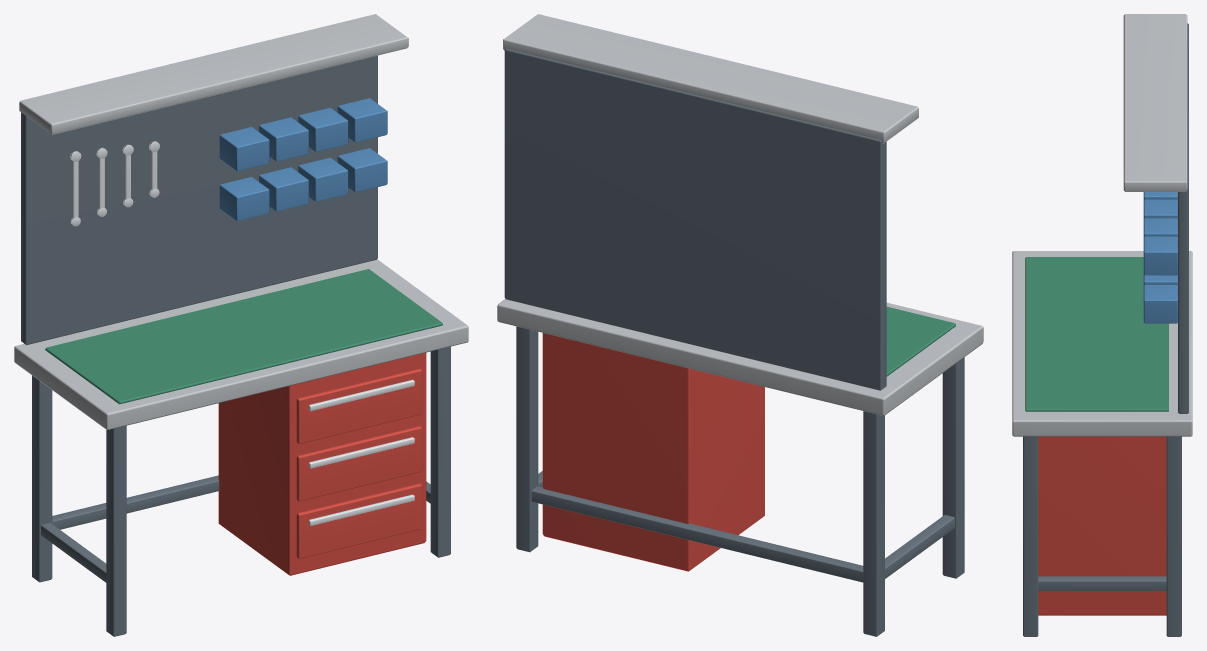
File: vcb-workbench.glb
The picture shows the model from 3 angles, left to right: view 1: azimuth 30°, elevation 25°; view 2: azimuth 150°, elevation 25°; view 3: azimuth 270°, elevation 25°; orthographic projection. The views are drawn at different scales.
Visible parts, largest first — view 1: VcbWorkbenchAssembly; view 2: VcbWorkbenchAssembly; view 3: VcbWorkbenchAssembly.
Part boxes in pixels (x1=…): VcbWorkbenchAssembly: x1=14, y1=14, x2=468, y2=636; VcbWorkbenchAssembly: x1=497, y1=14, x2=983, y2=636; VcbWorkbenchAssembly: x1=1012, y1=14, x2=1192, y2=636.
Bounding box in the file's own units: 1.52 × 1.91 × 0.68.
